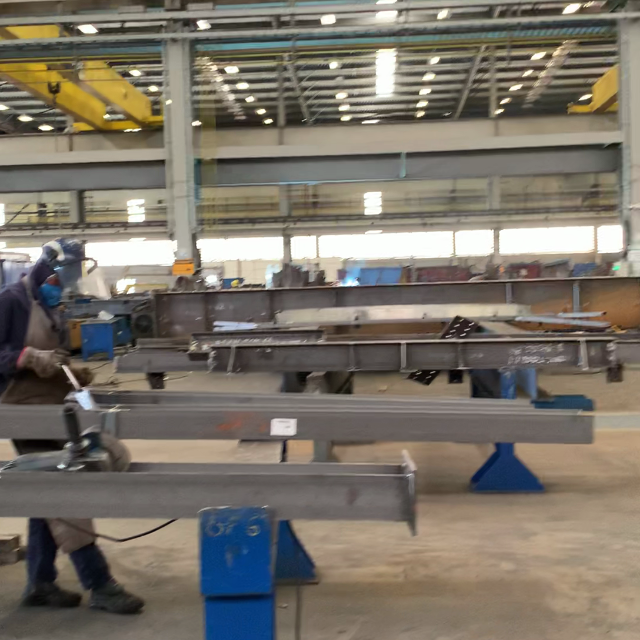face-shield: (50, 257, 106, 304)
glove: (17, 349, 75, 381)
helmet: (5, 233, 111, 413), (40, 235, 87, 263)
person: (4, 234, 111, 414)
safety-shoe: (20, 579, 83, 610), (87, 583, 146, 615)
